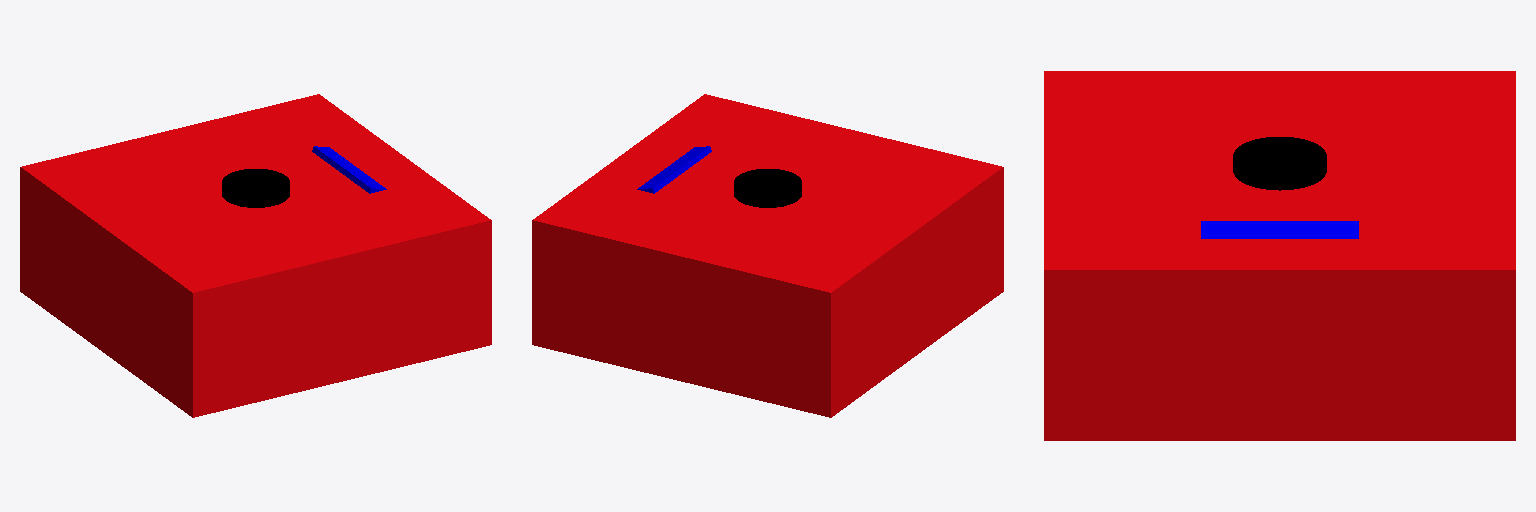
The robot description file, URDF, robot "turtlebot3_burger":
<?xml version="1.0"?>
<robot name="turtlebot3_burger">
  <link name="base_link">
    <visual>
      <geometry>
        <box size="0.150 0.150 0.060"/>
      </geometry>
      <origin xyz="0 0 0.03" rpy="0 0 0"/>
      <material name="burger_red">
        <color rgba="0.95 0.04 0.08 1.0"/>
      </material>
    </visual>
  </link>

  <link name="base_scan">
    <visual>
      <geometry>
        <cylinder radius="0.015" length="0.030"/>
      </geometry>
      <origin xyz="0 0 0.05" rpy="0 0 0"/>
      <material name="lidar_black">
        <color rgba="0.0 0.0 0.0 1.0"/>
      </material>
    </visual>
  </link>

  <joint name="base_scan_joint" type="fixed">
    <parent link="base_link"/>
    <child link="base_scan"/>
  </joint>

  <!-- 카메라 링크 추가 -->
  <link name="camera_link">
    <visual>
      <geometry>
        <box size="0.02 0.05 0.02"/>
      </geometry>
      <origin xyz="0 0 0" rpy="0 0 0"/>
      <material name="camera_blue">
        <color rgba="0.0 0.0 1.0 1.0"/>
      </material>
    </visual>
  </link>

  <!-- 카메라 조인트 추가 -->
  <joint name="camera_joint" type="fixed">
    <parent link="base_link"/>
    <child link="camera_link"/>
    <!-- 앞쪽, 약간 아래를 향하도록 -->
    <origin xyz="0.05 0 0.05" rpy="0 0.3 0"/>
  </joint>
</robot>

--- Render facts (derived) ---
3 views of the same robot in one strip: view 1: azimuth 30°, elevation 25°; view 2: azimuth 150°, elevation 25°; view 3: azimuth 270°, elevation 25° (orthographic).
Model turtlebot3_burger with 3 links and 2 joints (2 fixed), rooted at base_link, posed all joints at 0.
Visible links, largest first — view 1: base_link, base_scan, camera_link; view 2: base_link, base_scan, camera_link; view 3: base_link, base_scan, camera_link.
Boxes of the visible links, x1,y1,x2,y2 form: base_link: (20, 94, 491, 417); base_scan: (222, 169, 289, 207); camera_link: (312, 146, 386, 193); base_link: (532, 94, 1003, 417); base_scan: (734, 169, 801, 207); camera_link: (637, 146, 711, 193); base_link: (1044, 71, 1515, 440); base_scan: (1233, 137, 1326, 190); camera_link: (1201, 221, 1358, 238).
Size in the robot's own frame: 0.15 by 0.15 by 0.065 metres.
Geometry: primitives only (box / cylinder / sphere), no mesh files.
